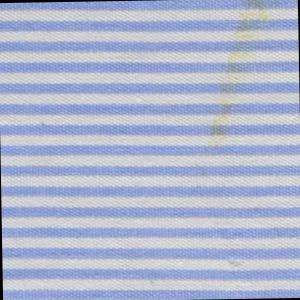Stain: (206, 1, 297, 153)
